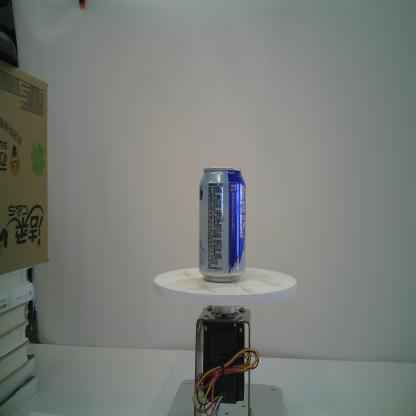Alcohol: (198, 167, 246, 283)
